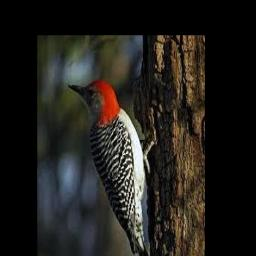Woodpecker: (68, 79, 153, 256)
